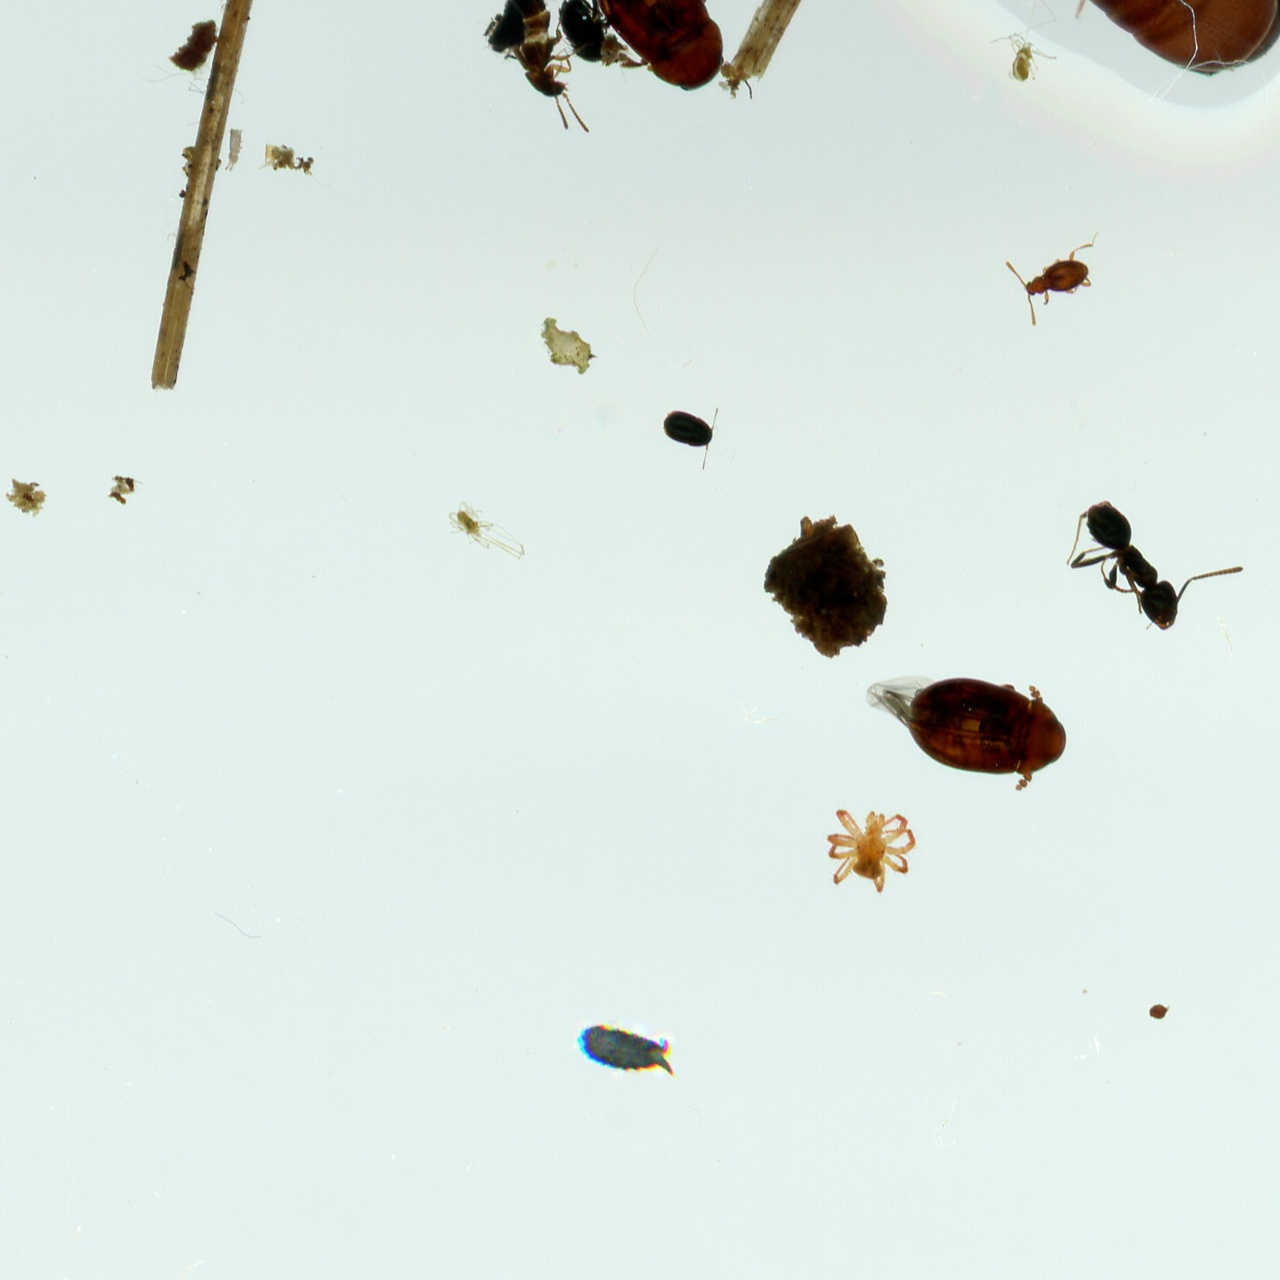arthropod: (1067, 502, 1242, 633), (869, 675, 1067, 791), (474, 0, 591, 134), (594, 0, 724, 93), (1006, 230, 1107, 327), (828, 808, 917, 894), (578, 1022, 674, 1077), (447, 497, 527, 561), (993, 0, 1057, 80), (661, 403, 722, 469), (558, 0, 608, 63), (224, 128, 244, 170)
